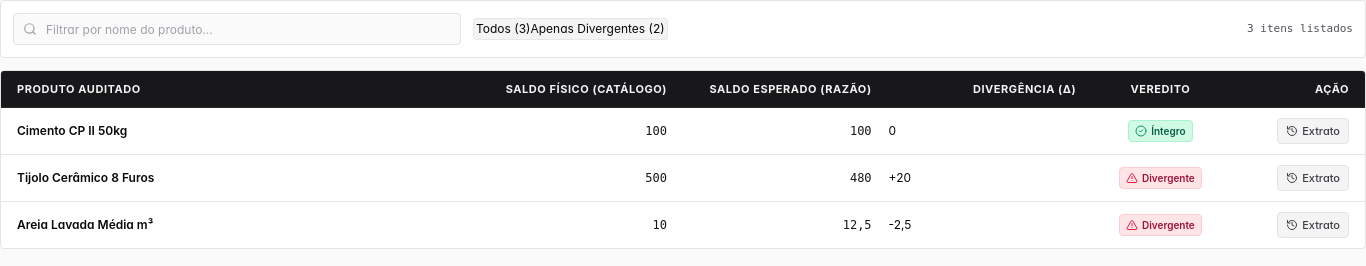
Test: Reconciliation UI Components (Impeccable Workbench) › ReconciliationTable › filtra apenas divergências ao clicar na pílula 'Apenas Divergentes'
Click the button with test id "filter-pill-discrepant" at (598,29), box [530,21,665,37]
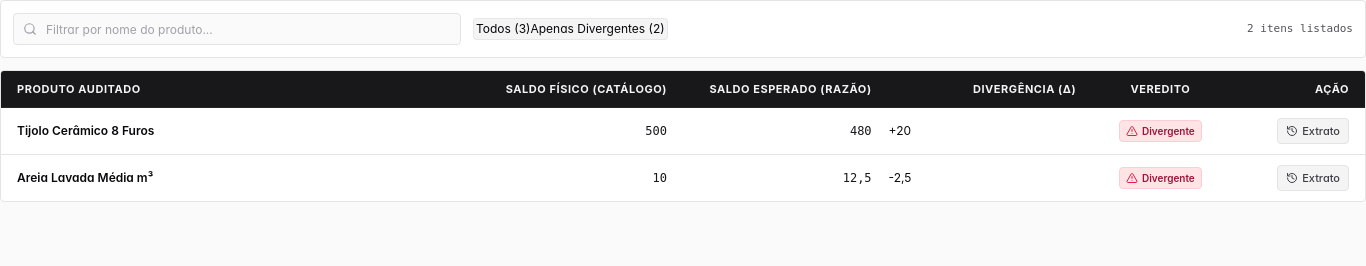
Expected: the text "Tijolo Cerâmico 8 Furos" is shown, [17,123,154,138]
Expected: the text "Cimento CP II 50kg" is gone
